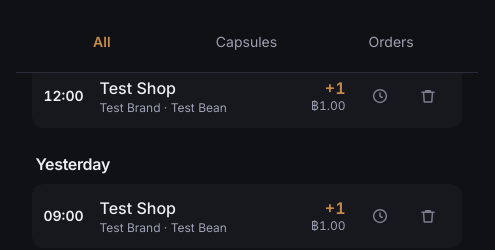
it: an empty Capsules filter announces "capsules" not "drinks" to both visible and screen-reader users
Click the radio button labelled "Capsules" at (247, 42), box [176, 20, 317, 64]
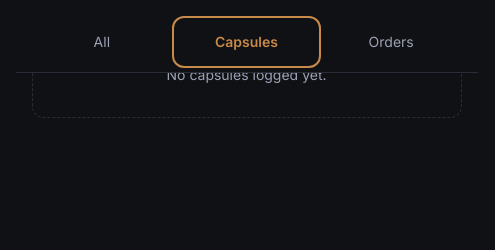
Expected: the text "No capsules logged yet." is shown, [32, 32, 462, 118]
